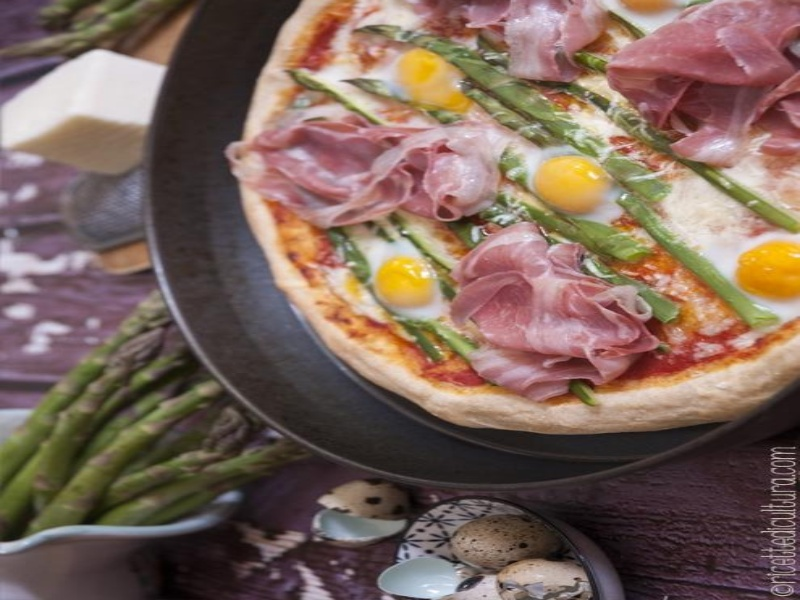oeuf: (384, 47, 479, 125), (523, 148, 621, 219), (720, 228, 800, 307), (369, 249, 451, 316)
